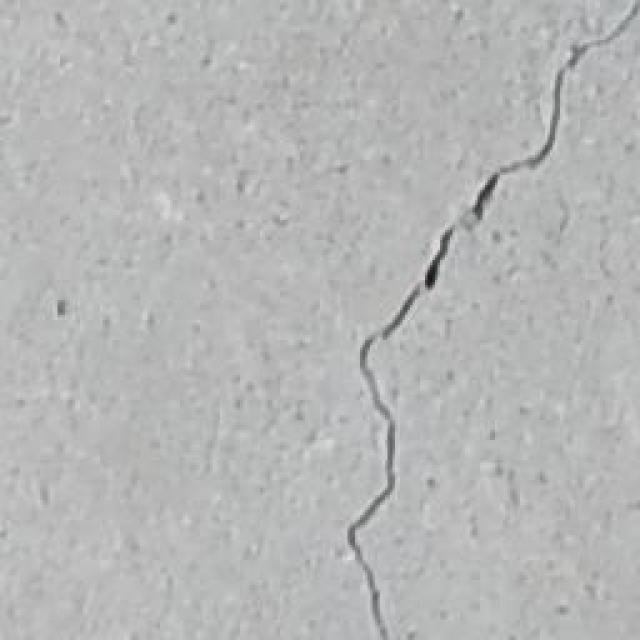concrete-crack: (336, 0, 638, 635)
